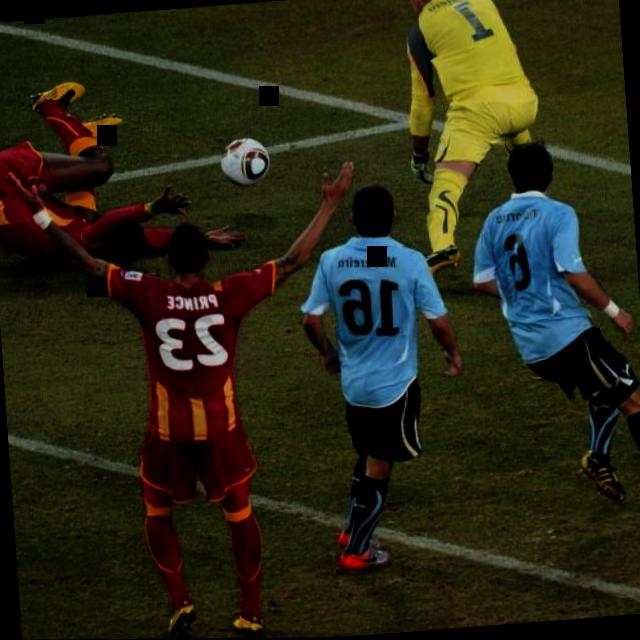Fall-Detected: (0, 71, 217, 292)
